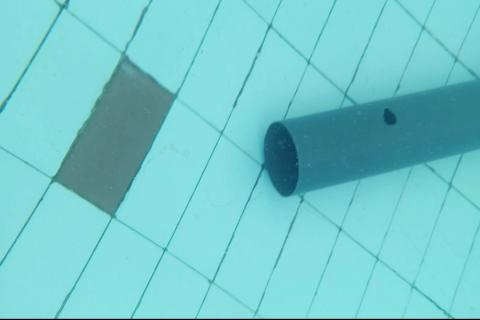kebocoran: (384, 107, 398, 127)
